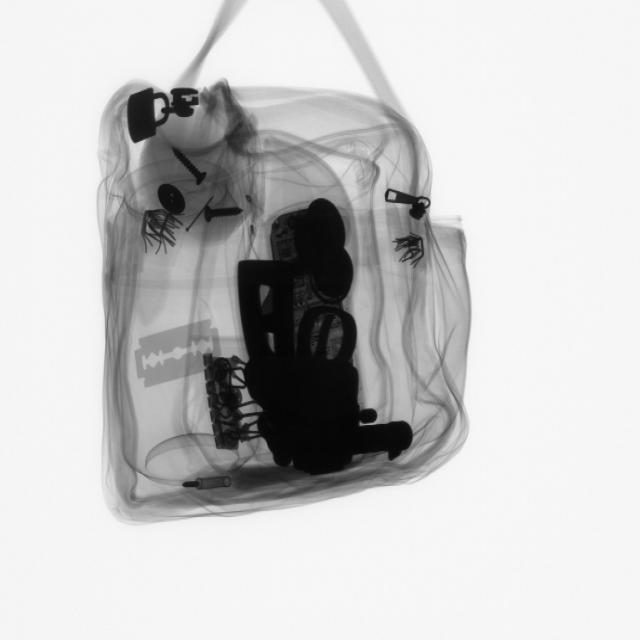BLADE: (126, 306, 231, 396)
GUN: (233, 258, 413, 478)
SCREW: (171, 142, 211, 191), (197, 199, 250, 230)
